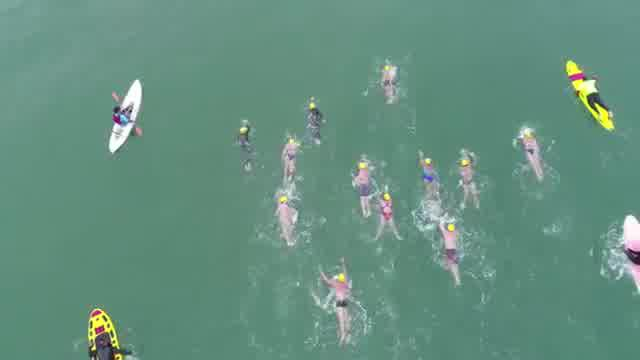human: (318, 261, 352, 351), (518, 124, 550, 180), (378, 188, 408, 246), (349, 152, 375, 218), (454, 149, 480, 214), (418, 154, 444, 214), (272, 196, 300, 245), (440, 220, 460, 285), (278, 135, 300, 193), (383, 61, 403, 106)
